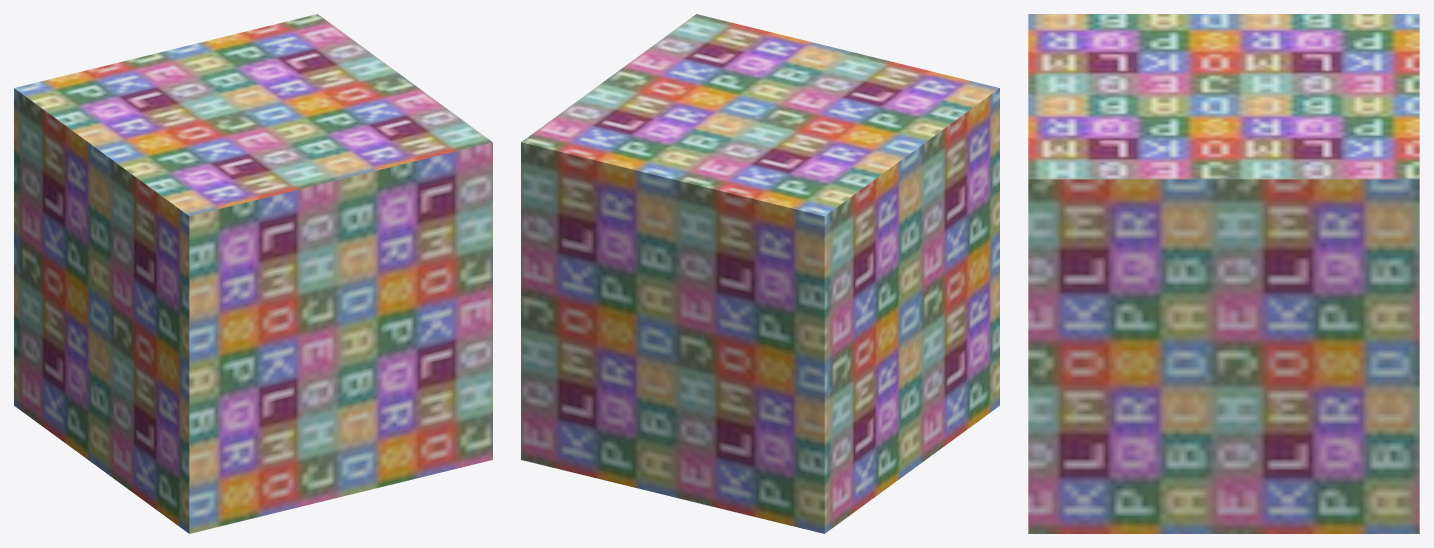
Rendered from cubeSubdivided.obj.
The picture shows the model from 3 angles, left to right: view 1: azimuth 30°, elevation 25°; view 2: azimuth 150°, elevation 25°; view 3: azimuth 270°, elevation 25°; orthographic projection. The views are drawn at different scales.
Visible parts, largest first — view 1: Cube1; view 2: Cube1; view 3: Cube1.
Part boxes in pixels (x1,y1,x2,y2): Cube1: [14, 14, 492, 533]; Cube1: [521, 14, 999, 533]; Cube1: [1028, 14, 1419, 533].
Bounding box in the file's own units: 1.76 × 1.76 × 1.76.
Materials: 1 (1 with a texture image).
